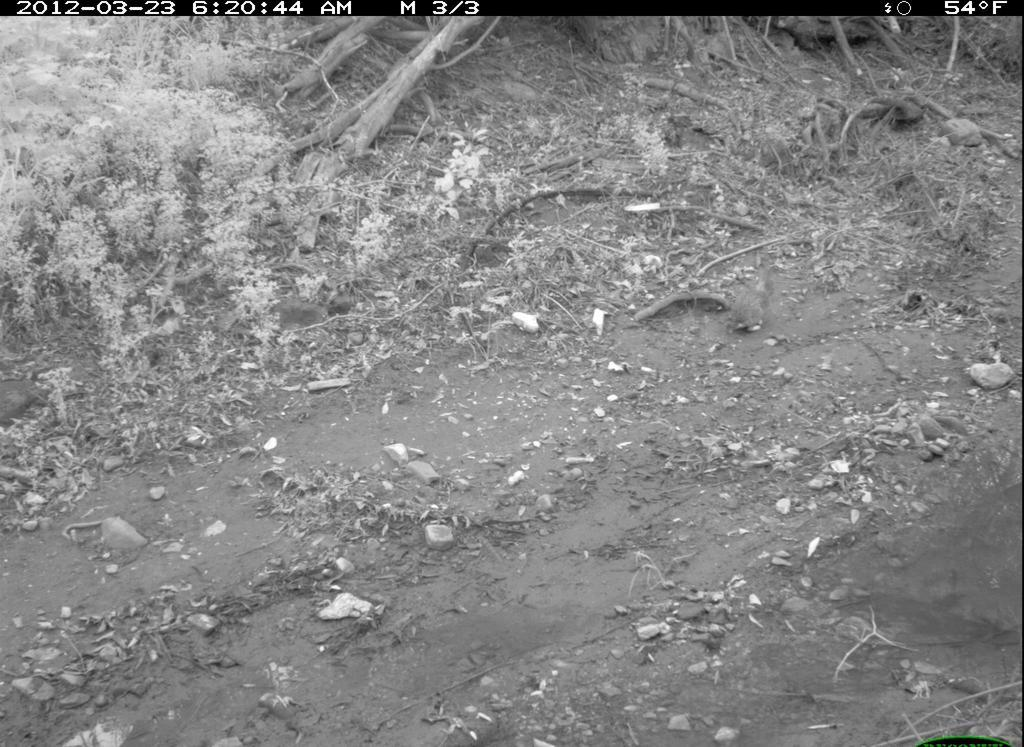rabbit: (716, 253, 788, 341)
